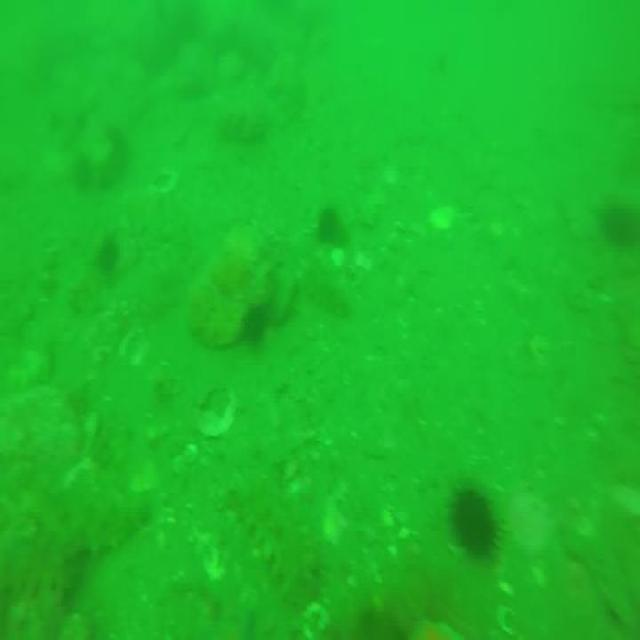echinus: (452, 482, 500, 561), (600, 187, 640, 240), (242, 300, 268, 344), (101, 228, 119, 276), (316, 210, 338, 240)
holothurian: (224, 466, 308, 602), (26, 474, 157, 552), (295, 261, 350, 319)
scallop: (300, 599, 334, 640), (119, 326, 149, 370), (427, 199, 458, 237), (495, 603, 526, 640), (154, 164, 180, 199)
